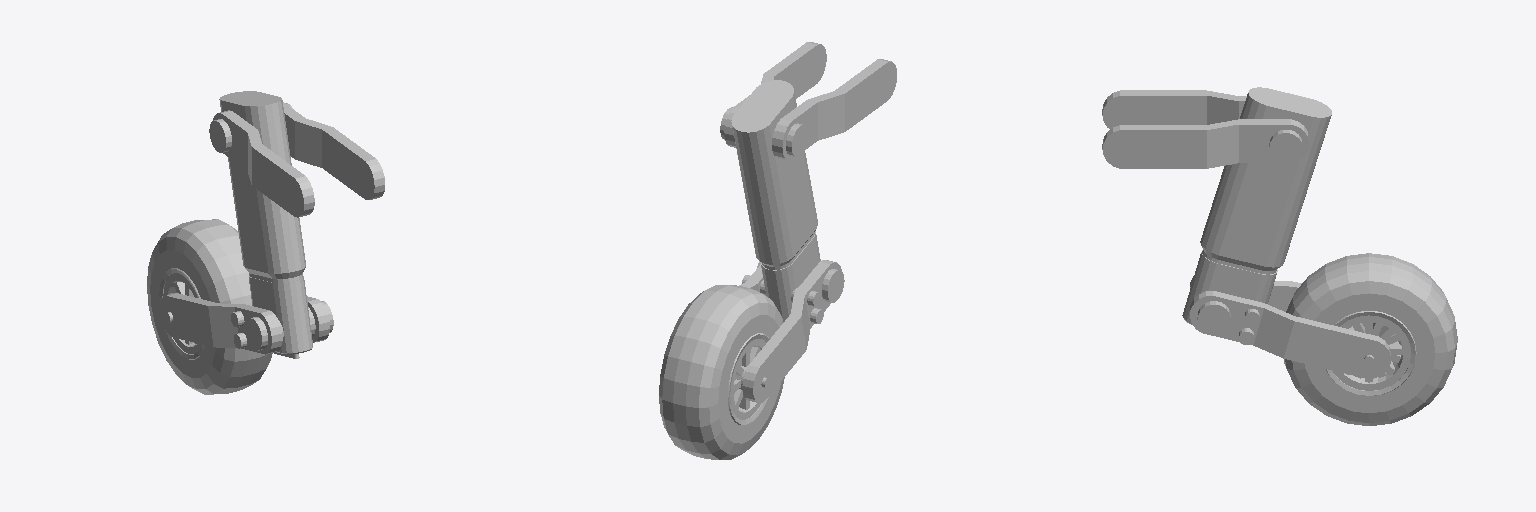
Rendered from gearright.obj.
3 views of the same model, side by side, from view 1: azimuth 30°, elevation 25°; view 2: azimuth 150°, elevation 25°; view 3: azimuth 270°, elevation 25° (orthographic).
Parts seen in each view (by area): view 1: Bell222_GEAR_RIGHT; view 2: Bell222_GEAR_RIGHT; view 3: Bell222_GEAR_RIGHT.
Boxes of the visible parts, <box> form: Bell222_GEAR_RIGHT: <box>147,91,384,394</box>; Bell222_GEAR_RIGHT: <box>659,42,896,459</box>; Bell222_GEAR_RIGHT: <box>1102,87,1457,425</box>.
Bounding box in the file's own units: 0.5161 × 1.85 × 1.82.